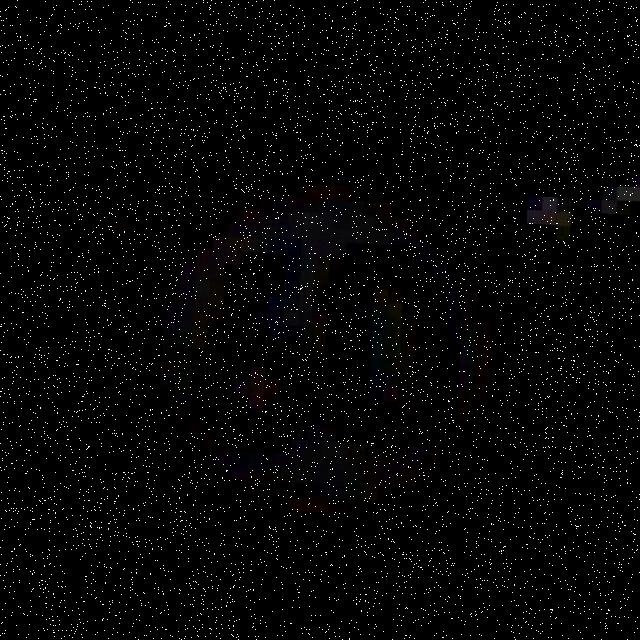Ograniczenie predkosci do 60: (78, 109, 555, 582)
